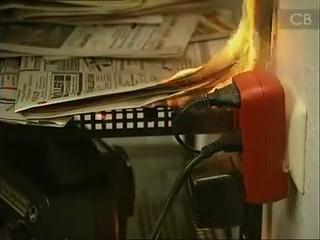Fire: (142, 1, 263, 119)
